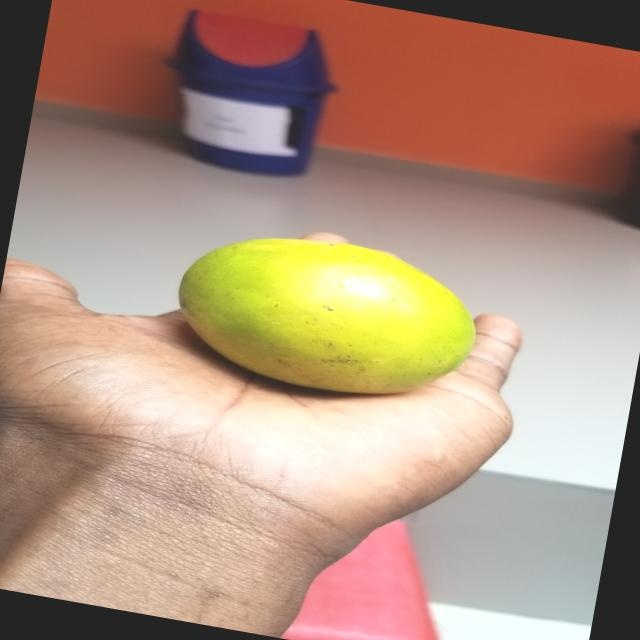agrume: (159, 202, 490, 437)
